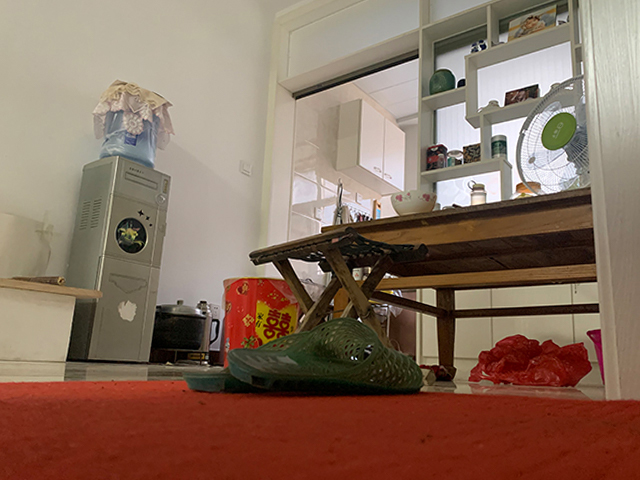carpet: (1, 380, 640, 480)
slippers: (228, 317, 426, 395)
stool: (249, 227, 429, 350)
table: (370, 186, 601, 381)
trashcan: (221, 275, 300, 369)
